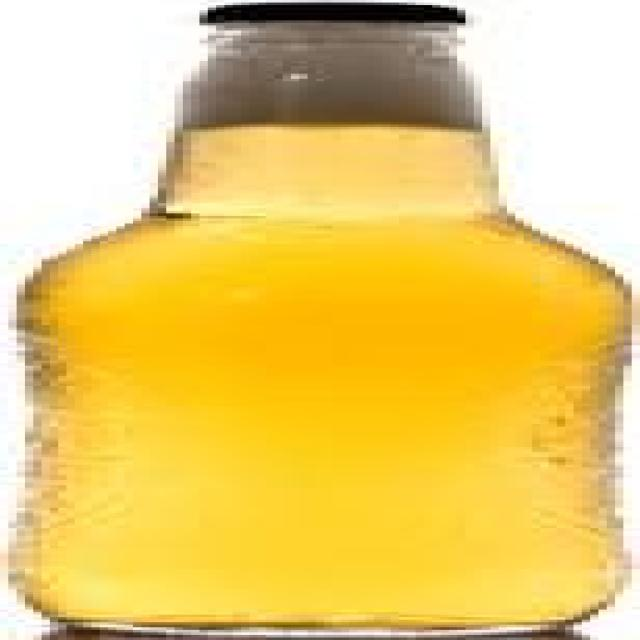glass: (8, 21, 615, 638)
metal: (199, 0, 457, 20)
